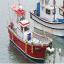fishing boat: (6, 0, 54, 64), (29, 0, 64, 41)
